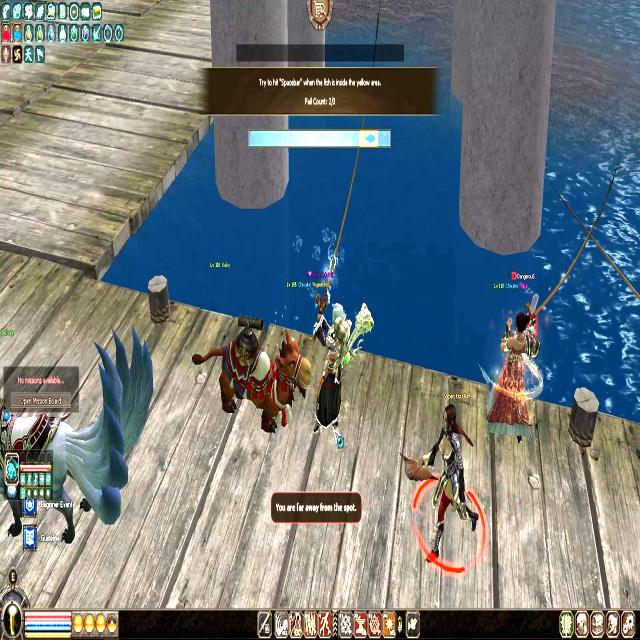fishes: (361, 131, 377, 147)
